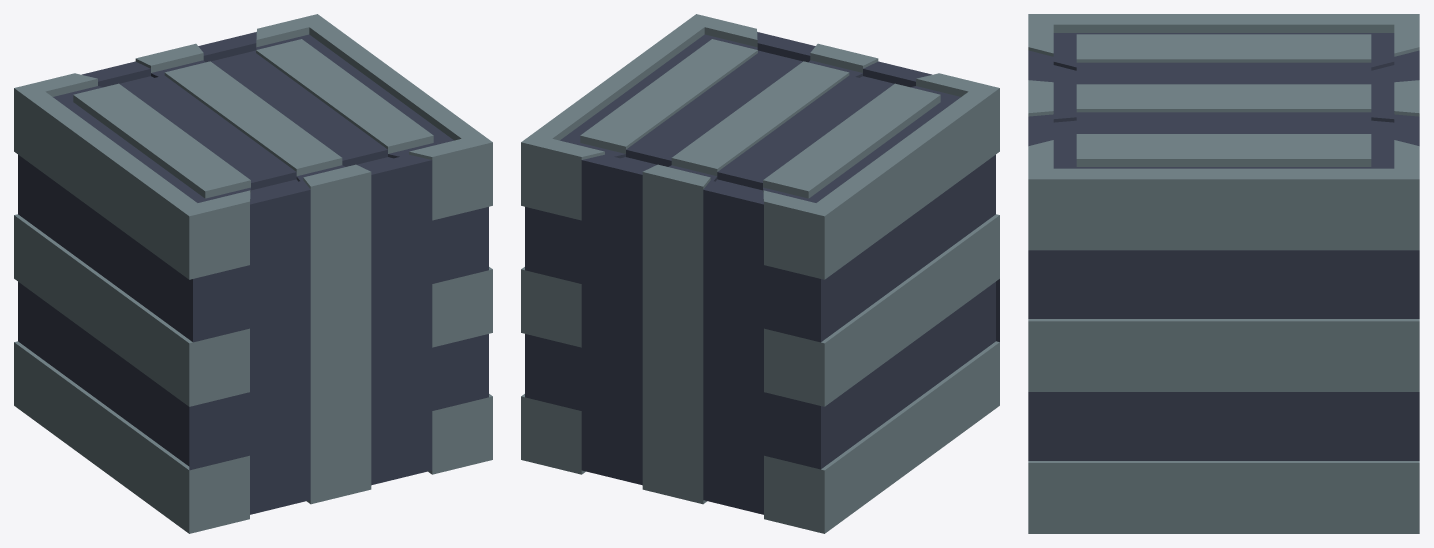
The model's file is Floor Tile.fbx.
The picture shows the model from 3 angles, left to right: view 1: azimuth 30°, elevation 25°; view 2: azimuth 150°, elevation 25°; view 3: azimuth 270°, elevation 25°; orthographic projection. The views are drawn at different scales.
Visible parts, largest first — view 1: Floor Tile; view 2: Floor Tile; view 3: Floor Tile.
Boxes of the visible parts, <box> form: Floor Tile: <box>14,14,492,533</box>; Floor Tile: <box>521,14,999,533</box>; Floor Tile: <box>1028,14,1419,533</box>.
Size of the model in its own units: 200 by 200 by 200.
